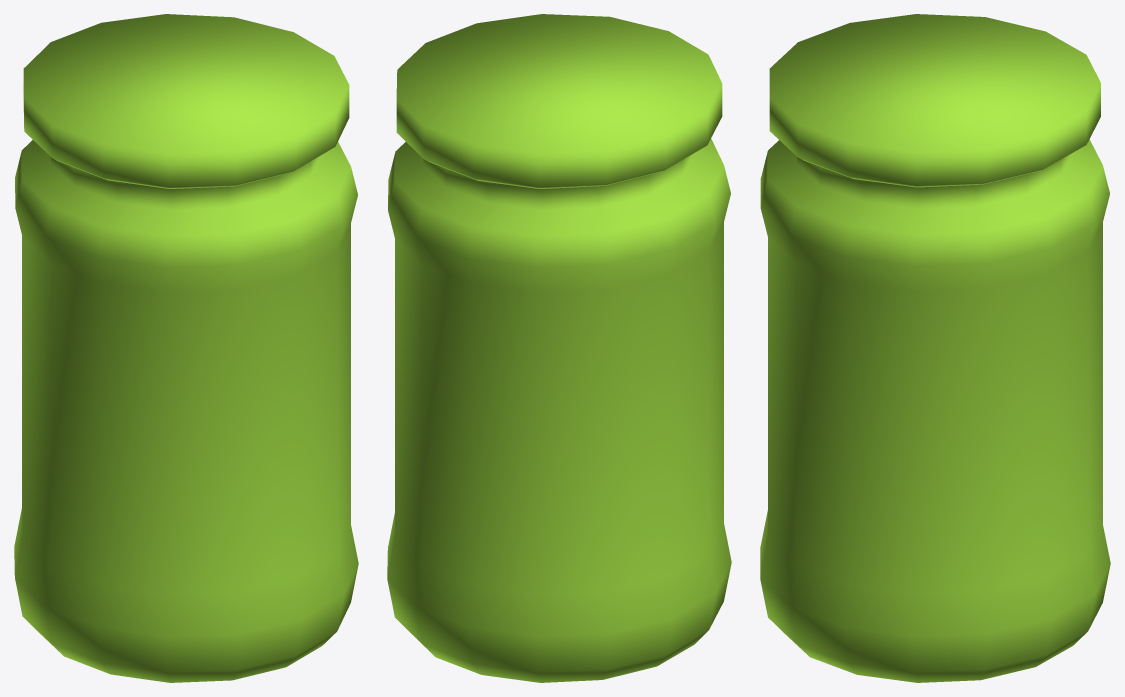
Rendered from Ragù.fbx.
3 renders of one model, left to right at view 1: azimuth 30°, elevation 25°; view 2: azimuth 150°, elevation 25°; view 3: azimuth 270°, elevation 25°, orthographic.
Visible parts, largest first — view 1: Ragù; view 2: Ragù; view 3: Ragù.
Part boxes in pixels (<box>): Ragù: <box>14,14,358,682</box>; Ragù: <box>387,14,731,682</box>; Ragù: <box>760,14,1110,682</box>.
Bounding box in the file's own units: 262 × 464 × 266.
